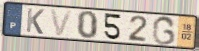0: (74, 10, 100, 40)
2: (128, 15, 149, 42)
5: (103, 12, 122, 41)
G: (151, 15, 178, 46)
K: (24, 7, 46, 36)
V: (49, 8, 75, 37)
